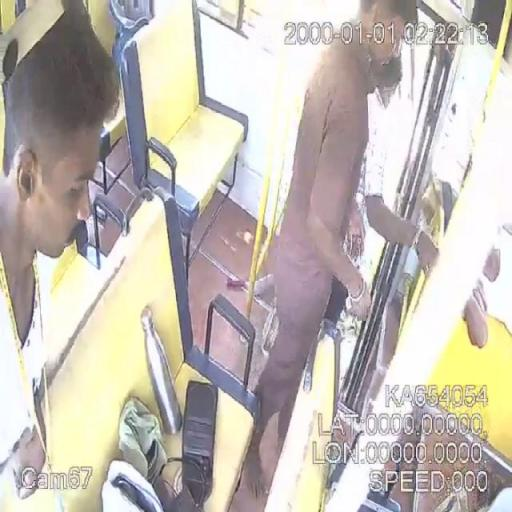persona: (268, 1, 418, 417), (0, 1, 122, 510)
